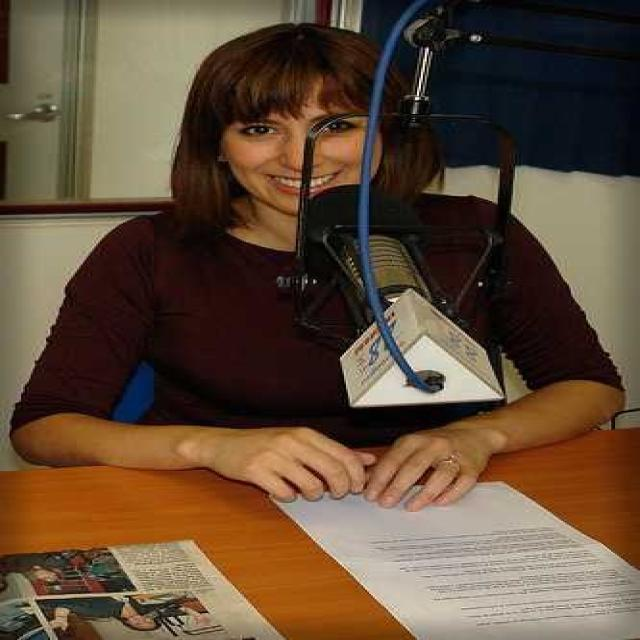microphone: (309, 194, 497, 412)
